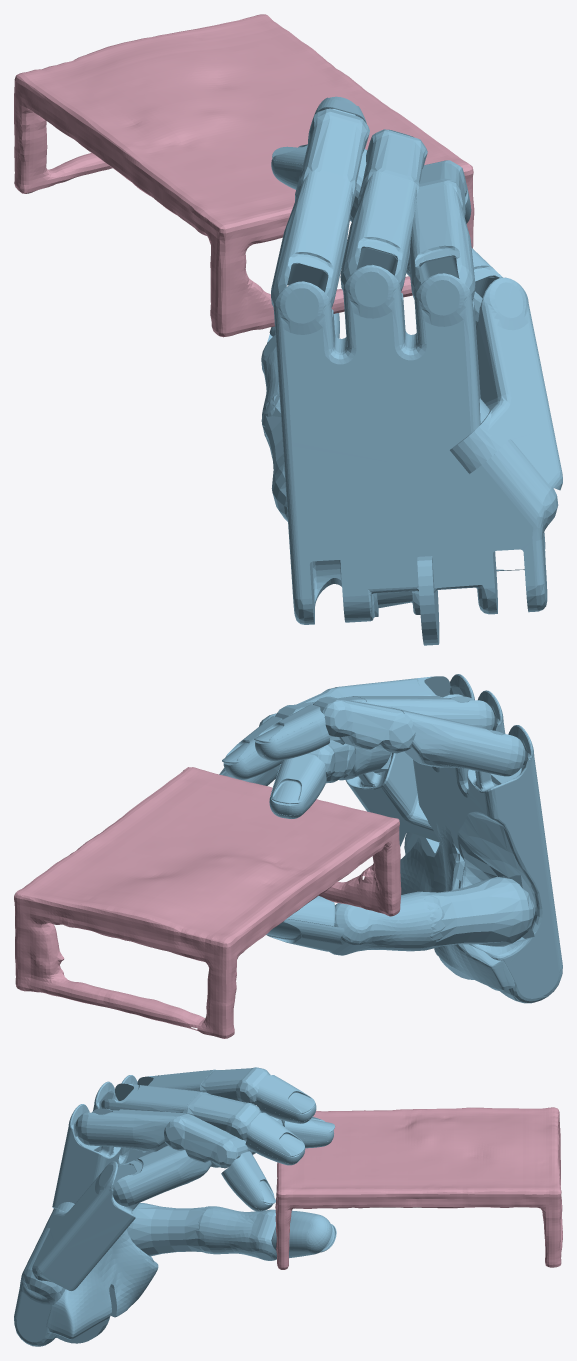
3 views of the same model, one above another, from view 1: azimuth 30°, elevation 25°; view 2: azimuth 150°, elevation 25°; view 3: azimuth 270°, elevation 25° (orthographic). The views are drawn at different scales.
Visible parts, largest first — view 1: hand, world; view 2: hand, world; view 3: hand, world.
Boxes of the visible parts, x1,y1,x2,y2 form: hand: [261, 96, 562, 645]; world: [14, 14, 474, 337]; hand: [219, 674, 562, 1003]; world: [14, 767, 401, 1038]; hand: [14, 1067, 336, 1346]; world: [275, 1107, 562, 1269].
Size of the model in its own units: 0.1127 by 0.1442 by 0.2524.
